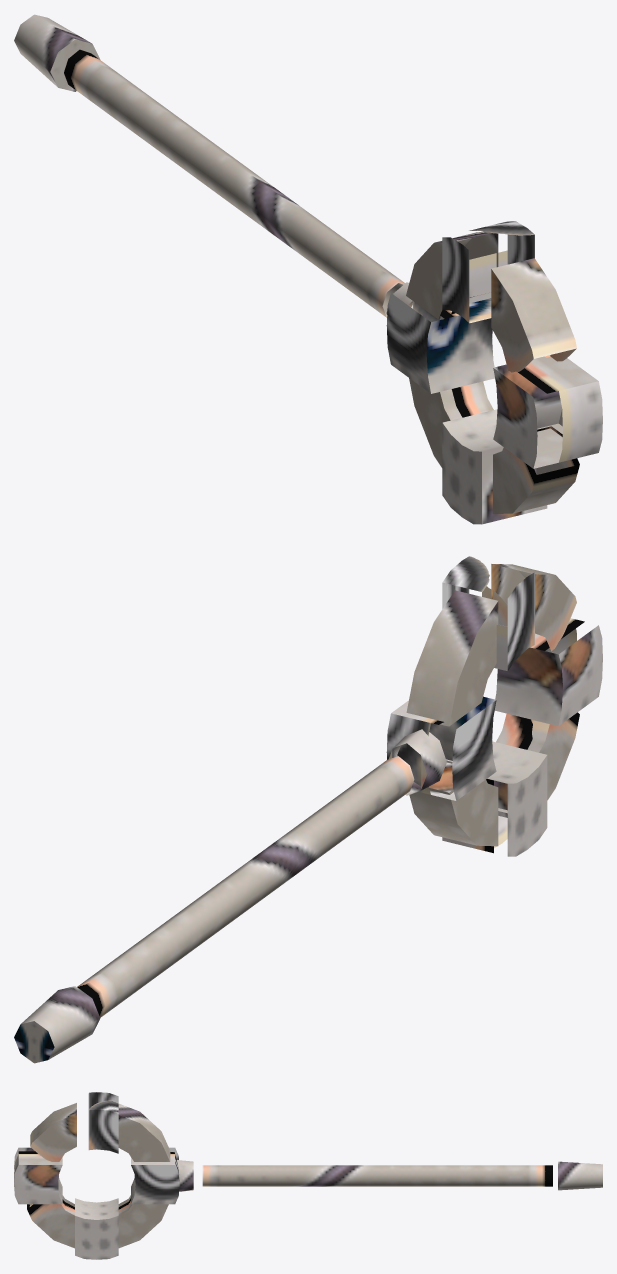
3 renders of one model, top to bottom at view 1: azimuth 30°, elevation 25°; view 2: azimuth 150°, elevation 25°; view 3: azimuth 270°, elevation 25°, orthographic. The views are drawn at different scales.
Parts seen in each view (by area): view 1: mWand; view 2: mWand; view 3: mWand.
Boxes of the visible parts, bbox=[...] form: mWand: bbox=[14, 14, 602, 524]; mWand: bbox=[14, 556, 602, 1063]; mWand: bbox=[14, 1092, 602, 1259].
Size of the model in its own units: 0.0639 by 0.255 by 0.9068.
